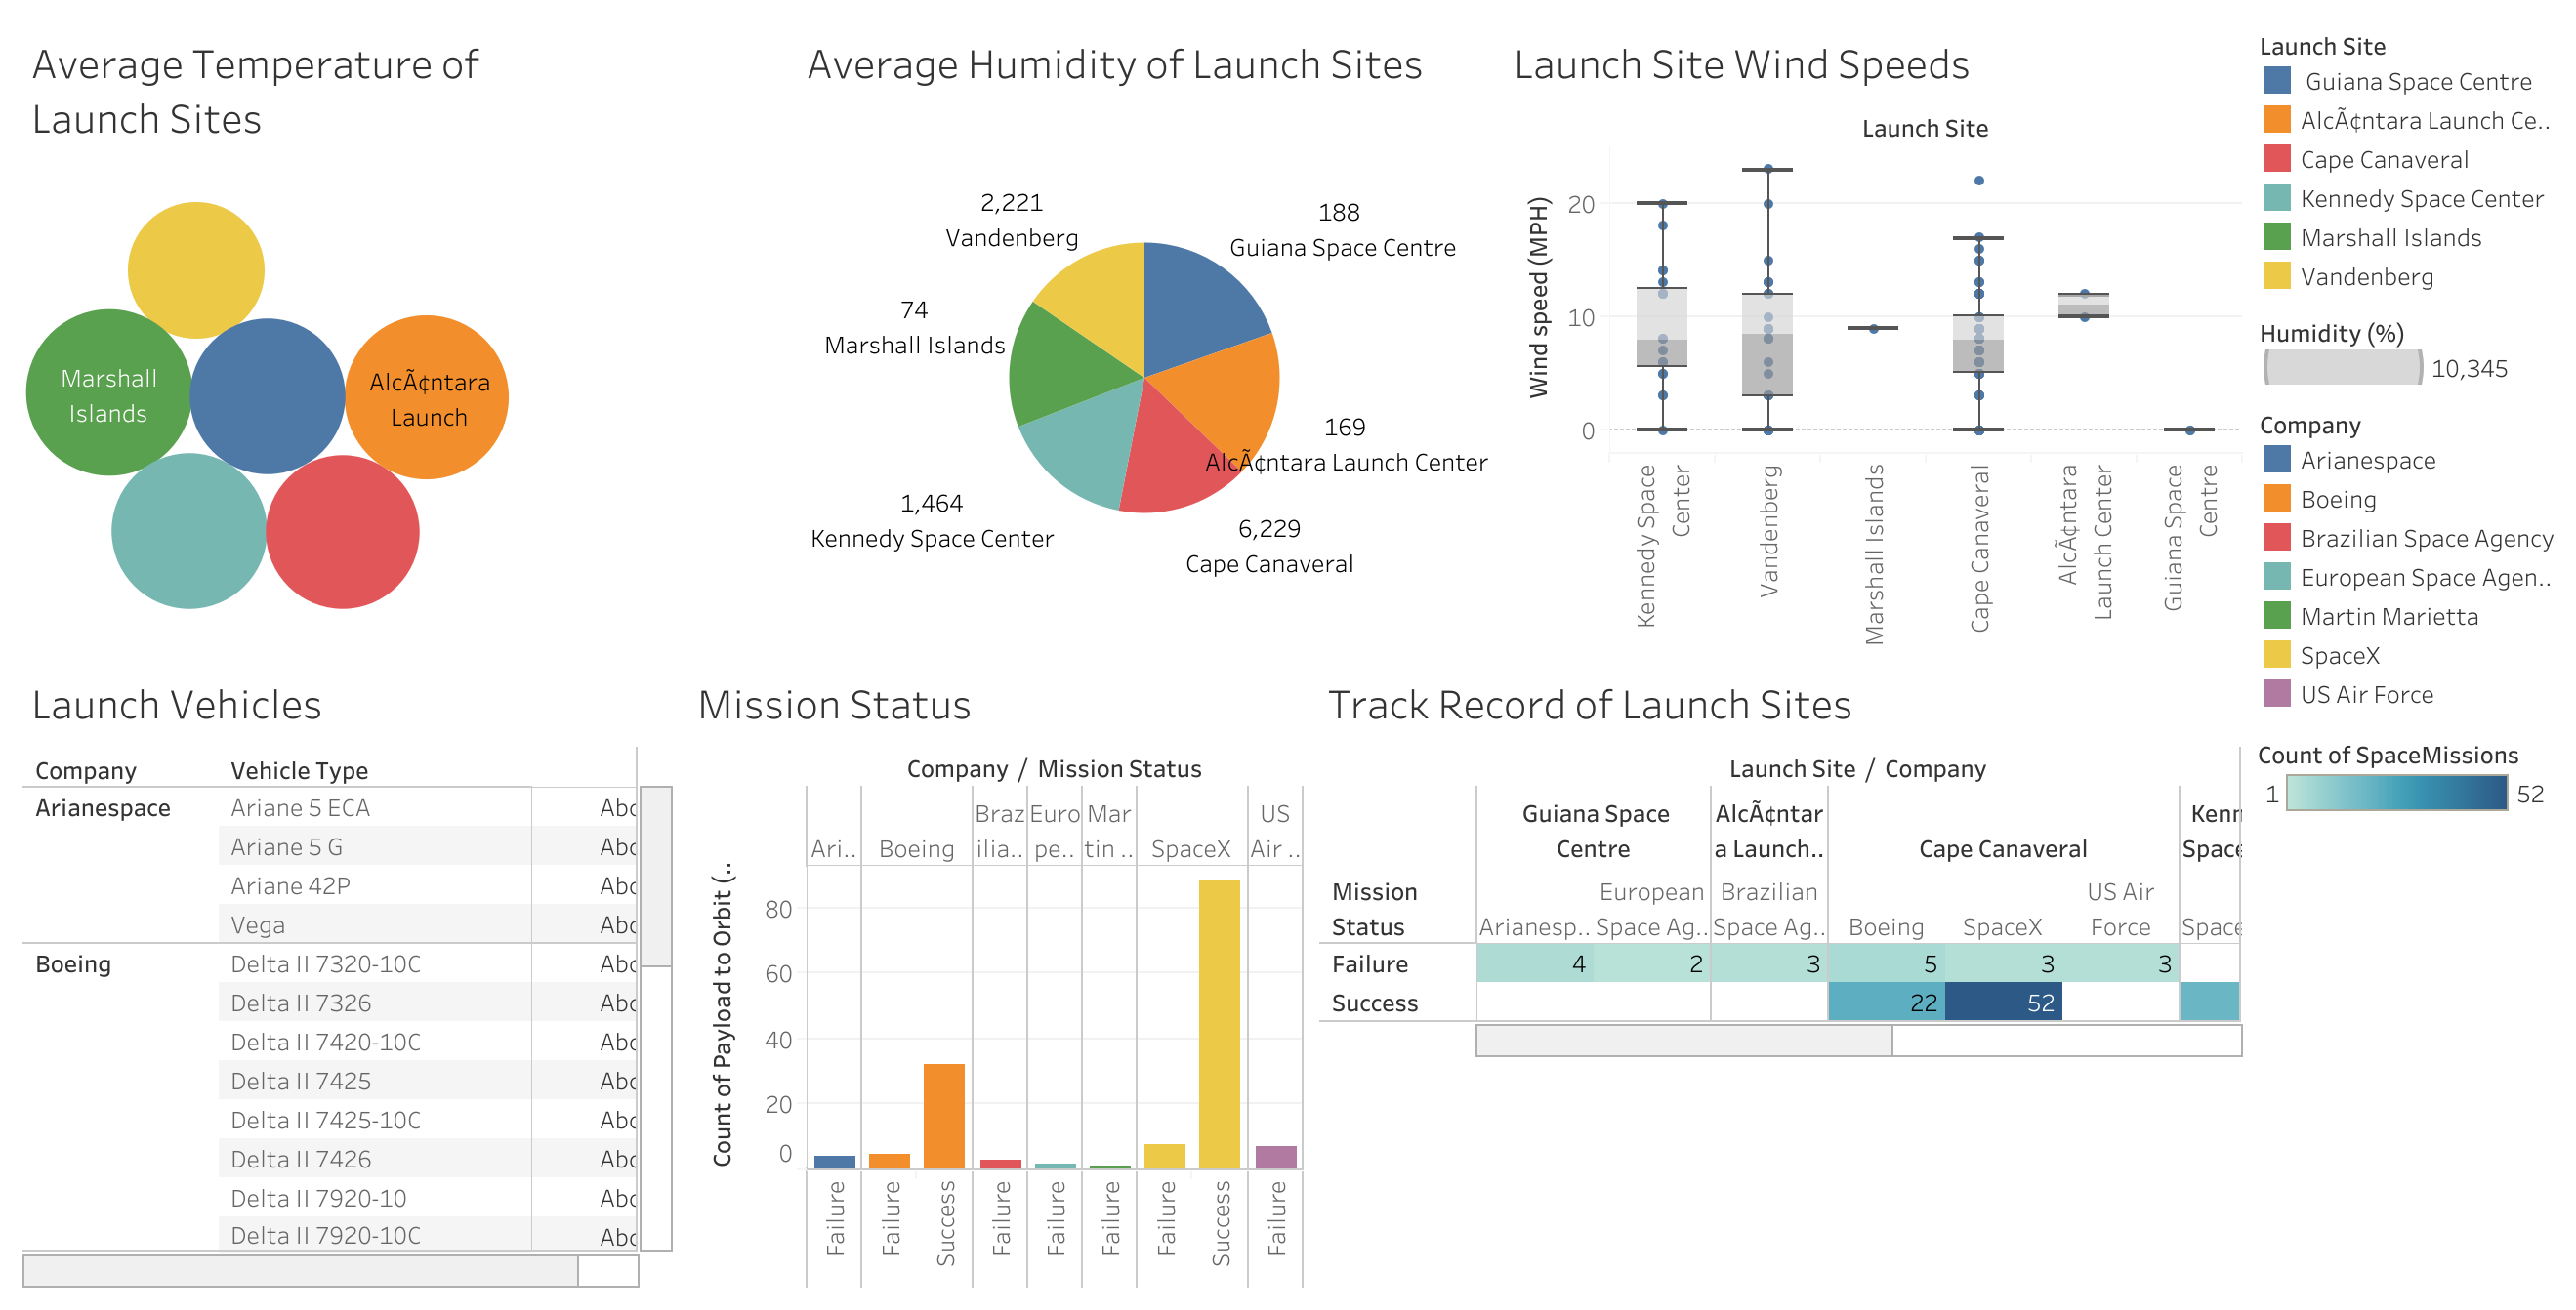

What the dashboard file says about the page in this screenshot:
{"tool":"tableau","page":{"name":"Dashboard 1","canvas":[1000,1000],"units":"permille","ordinal":0},"visuals":[{"type":"worksheet","title":"Average Temperature of Launch Sites","mark":"Circle","box":[6.1,10.5,300.8,489.5]},{"type":"worksheet","title":"Average Humidity of Launch Sites","mark":"Pie","box":[306.8,10.5,274.2,489.5]},{"type":"worksheet","title":"Launch Site Wind Speeds","mark":"Circle","rows":["Wind speed (MPH)"],"cols":["Launch Site"],"box":[581.1,10.5,291.7,489.5]},{"type":"legend","title":"Average Temperature of Launch Sites","param":"[federated.126jsan1yh2hrq13j53xx063kvnx].[none:Launch Site:nk]","box":[872.7,10.5,121.2,192.1]},{"type":"legend","title":"Average Humidity of Launch Sites","param":"[federated.126jsan1yh2hrq13j53xx063kvnx].[sum:Humidity (%):qk]","box":[872.7,202.6,121.2,60.5]},{"type":"legend","title":"Mission Status","param":"[federated.126jsan1yh2hrq13j53xx063kvnx].[none:Company:nk]","box":[872.7,263.2,121.2,218.4]},{"type":"legend","title":"Track Record of Launch Sites","param":"[federated.126jsan1yh2hrq13j53xx063kvnx].[__tableau_internal_object_id__].[cnt:S","box":[872.7,481.6,121.2,85.5]},{"type":"worksheet","title":"Launch Vehicles","mark":"Automatic","rows":["Company","Vehicle Type"],"box":[6.1,500,258.3,489.5]},{"type":"worksheet","title":"Mission Status","mark":"Automatic","rows":["Payload to Orbit (kg)"],"cols":["Company","Mission Status"],"box":[264.4,500,244.7,489.5]},{"type":"worksheet","title":"Track Record of Launch Sites","mark":"Square","rows":["Mission Status"],"cols":["Launch Site","Company"],"box":[509.1,500,363.6,489.5]}]}

Visuals, with their boxes on the dashboard's canvas, which has no fixed pixel size, in thousandths of its width and height (x1, y1, x2, y2). These are canvas units, not pixel positions in the 2576x1310 screenshot, which may show the page scaled, cropped or inside an application window:
"Average Temperature of Launch Sites" worksheet (Circle marks): [x1=6, y1=10, x2=307, y2=500]
"Average Humidity of Launch Sites" worksheet (Pie marks): [x1=307, y1=10, x2=581, y2=500]
"Launch Site Wind Speeds" worksheet (Circle marks): [x1=581, y1=10, x2=873, y2=500]
"Average Temperature of Launch Sites" legend: [x1=873, y1=10, x2=994, y2=203]
"Average Humidity of Launch Sites" legend: [x1=873, y1=203, x2=994, y2=263]
"Mission Status" legend: [x1=873, y1=263, x2=994, y2=482]
"Track Record of Launch Sites" legend: [x1=873, y1=482, x2=994, y2=567]
"Launch Vehicles" worksheet: [x1=6, y1=500, x2=264, y2=990]
"Mission Status" worksheet: [x1=264, y1=500, x2=509, y2=990]
"Track Record of Launch Sites" worksheet (Square marks): [x1=509, y1=500, x2=873, y2=990]
